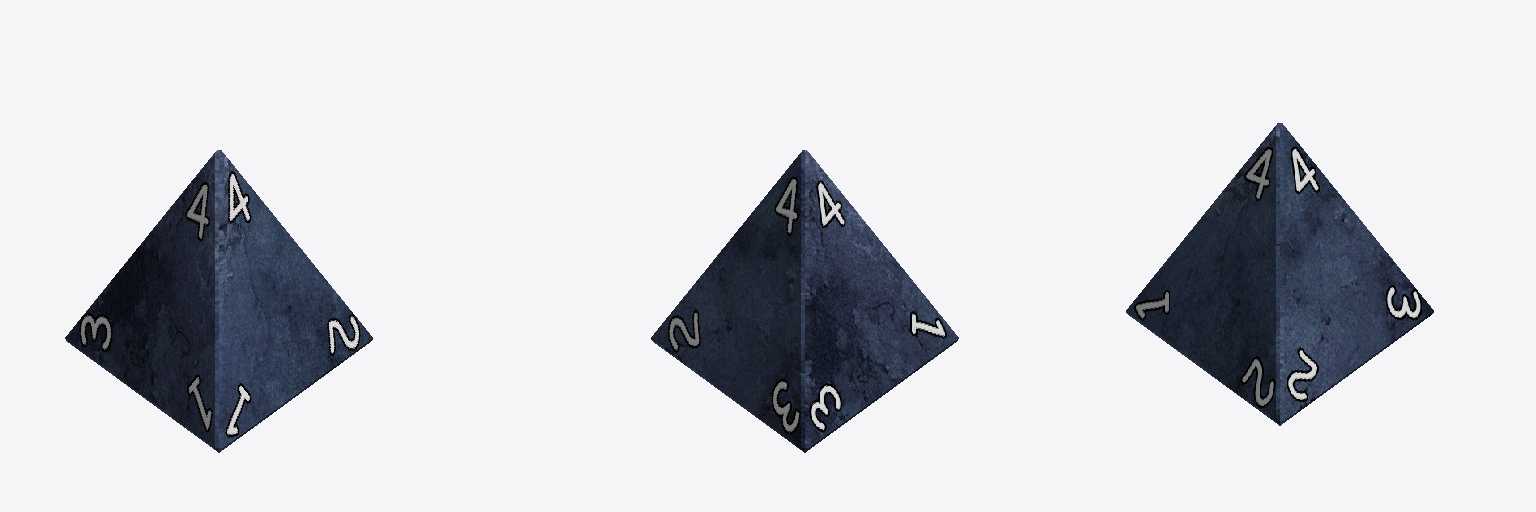
The picture shows the model from 3 angles: view 1: azimuth 30°, elevation 25°; view 2: azimuth 150°, elevation 25°; view 3: azimuth 270°, elevation 25°; orthographic projection.
Size of the model in its own units: 5.82 by 5.5 by 6.7.
Materials: 1 (1 with a texture image).